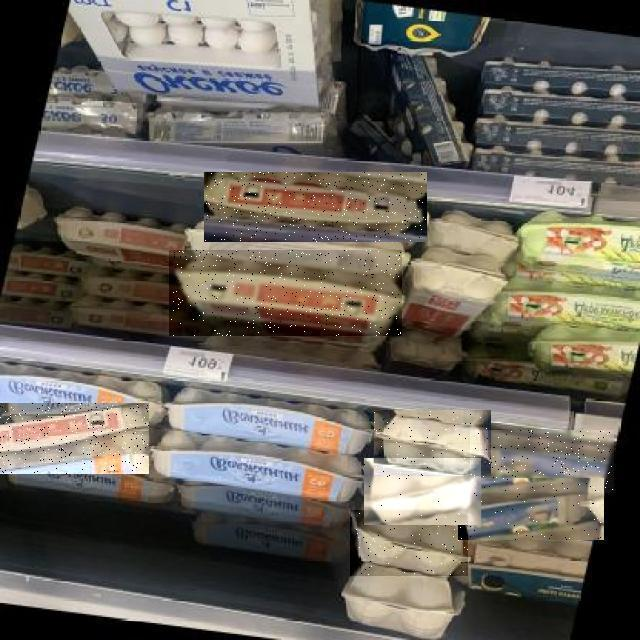Eggs: (169, 250, 402, 336), (204, 173, 427, 243), (0, 403, 149, 474), (470, 430, 616, 493), (458, 478, 604, 540), (364, 458, 481, 525), (350, 510, 468, 576), (374, 410, 491, 476)
